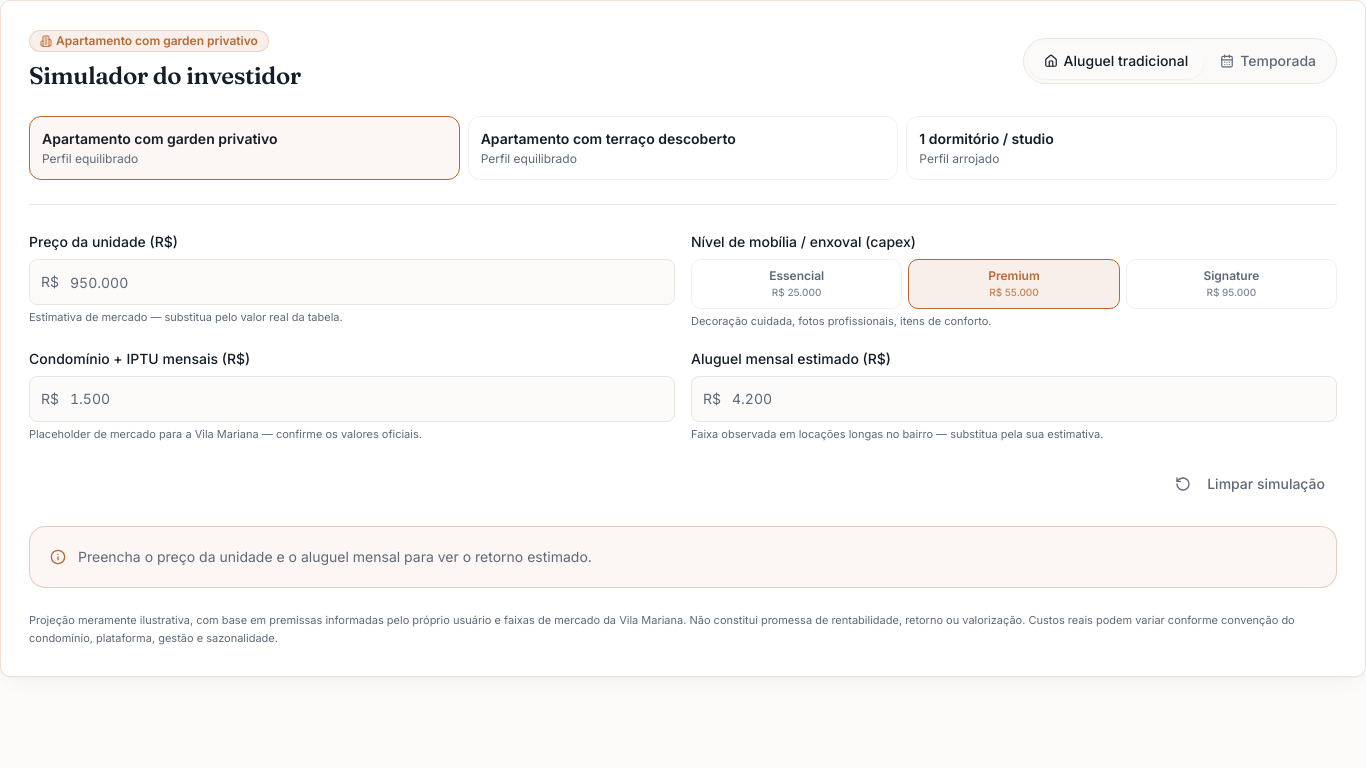
Test: InvestorSimulator — fluxo de caixa negativo › exibe alerta, valores em vermelho e dash em yield/payback quando annualNet <= 0
This screenshot has width=1366, height=768.
Type "500000" into the field labelled "Preço da unidade (R$)".
click(352, 282); type("500000")  # box top-left (29, 259), bottom-right (675, 305)
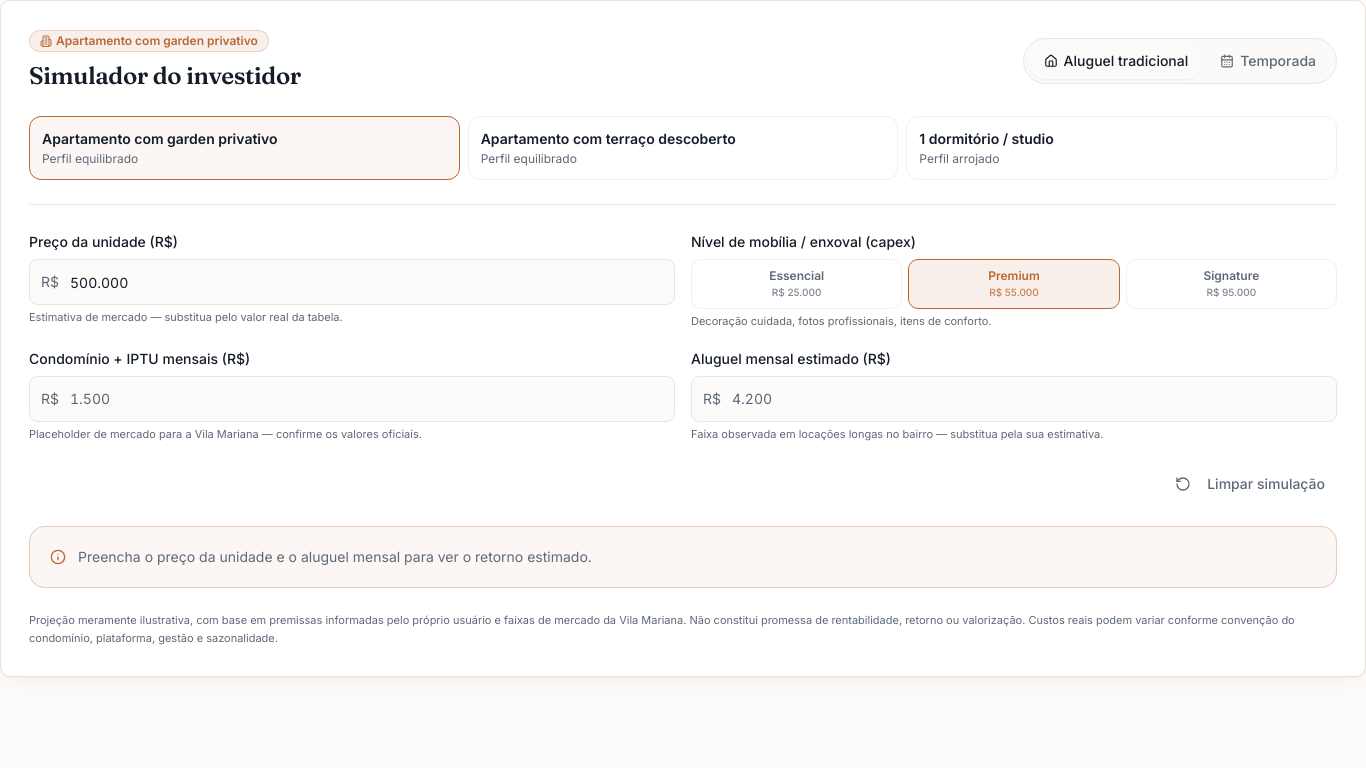
Type "5000" into the field with id "condo".
click(352, 398); type("5000")  # box top-left (29, 376), bottom-right (675, 422)
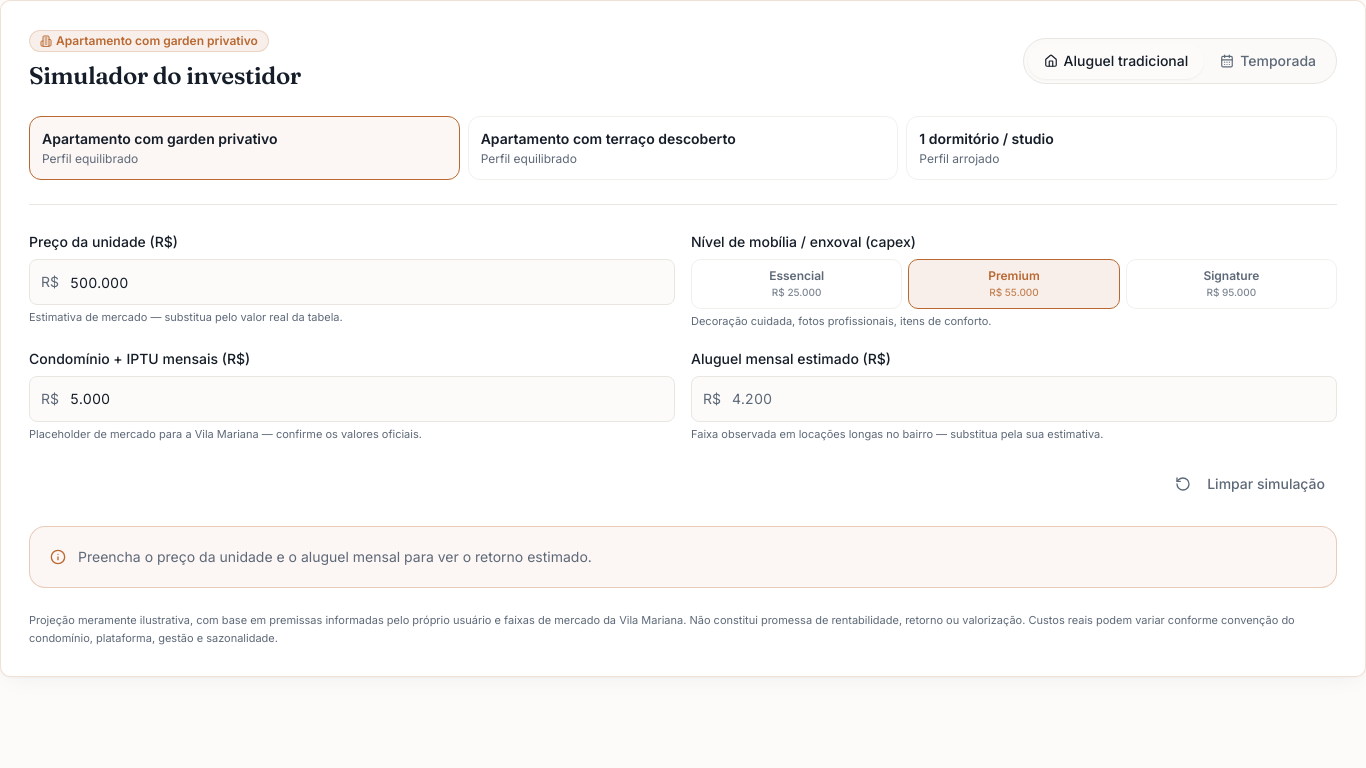
Type "2000" into the field with id "rent".
click(1014, 398); type("2000")  # box top-left (691, 376), bottom-right (1337, 422)
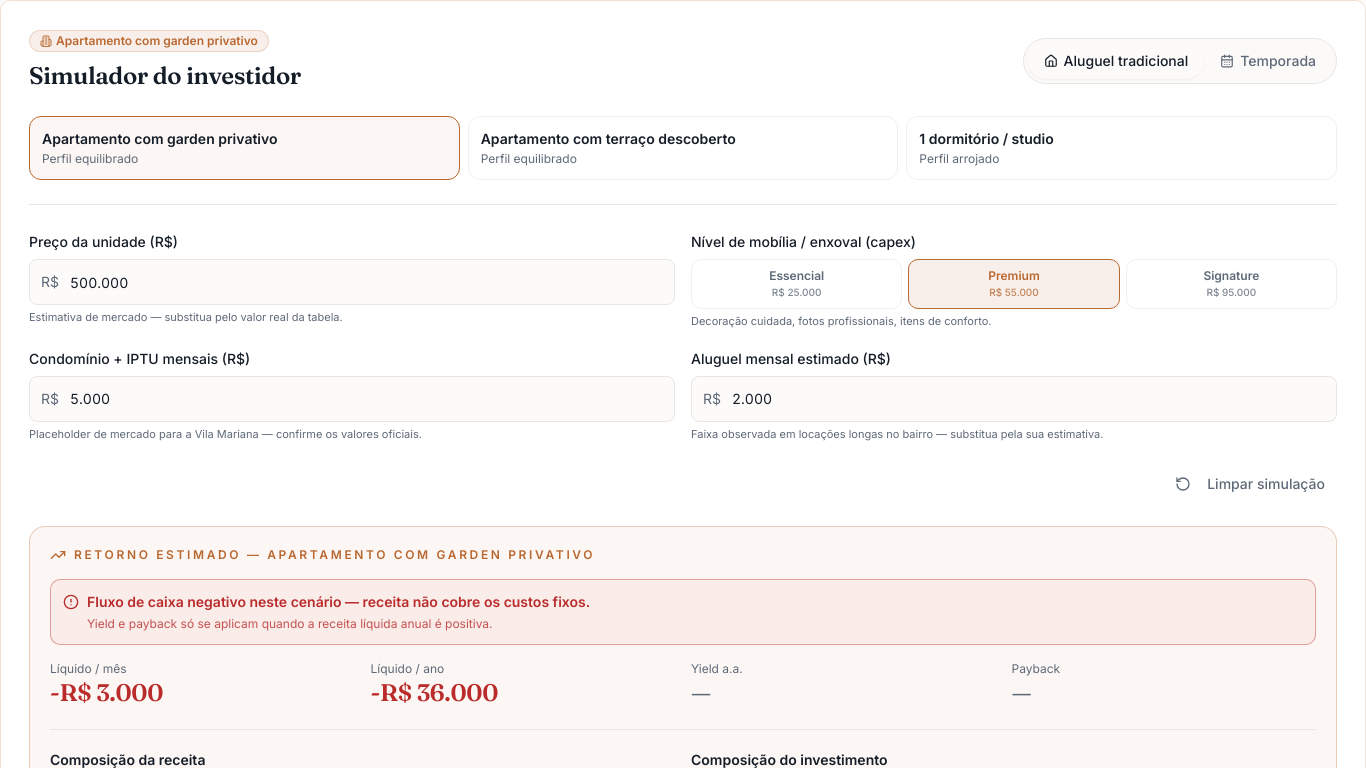
Check: the message is shown, box top-left (50, 579), bottom-right (1316, 645)
